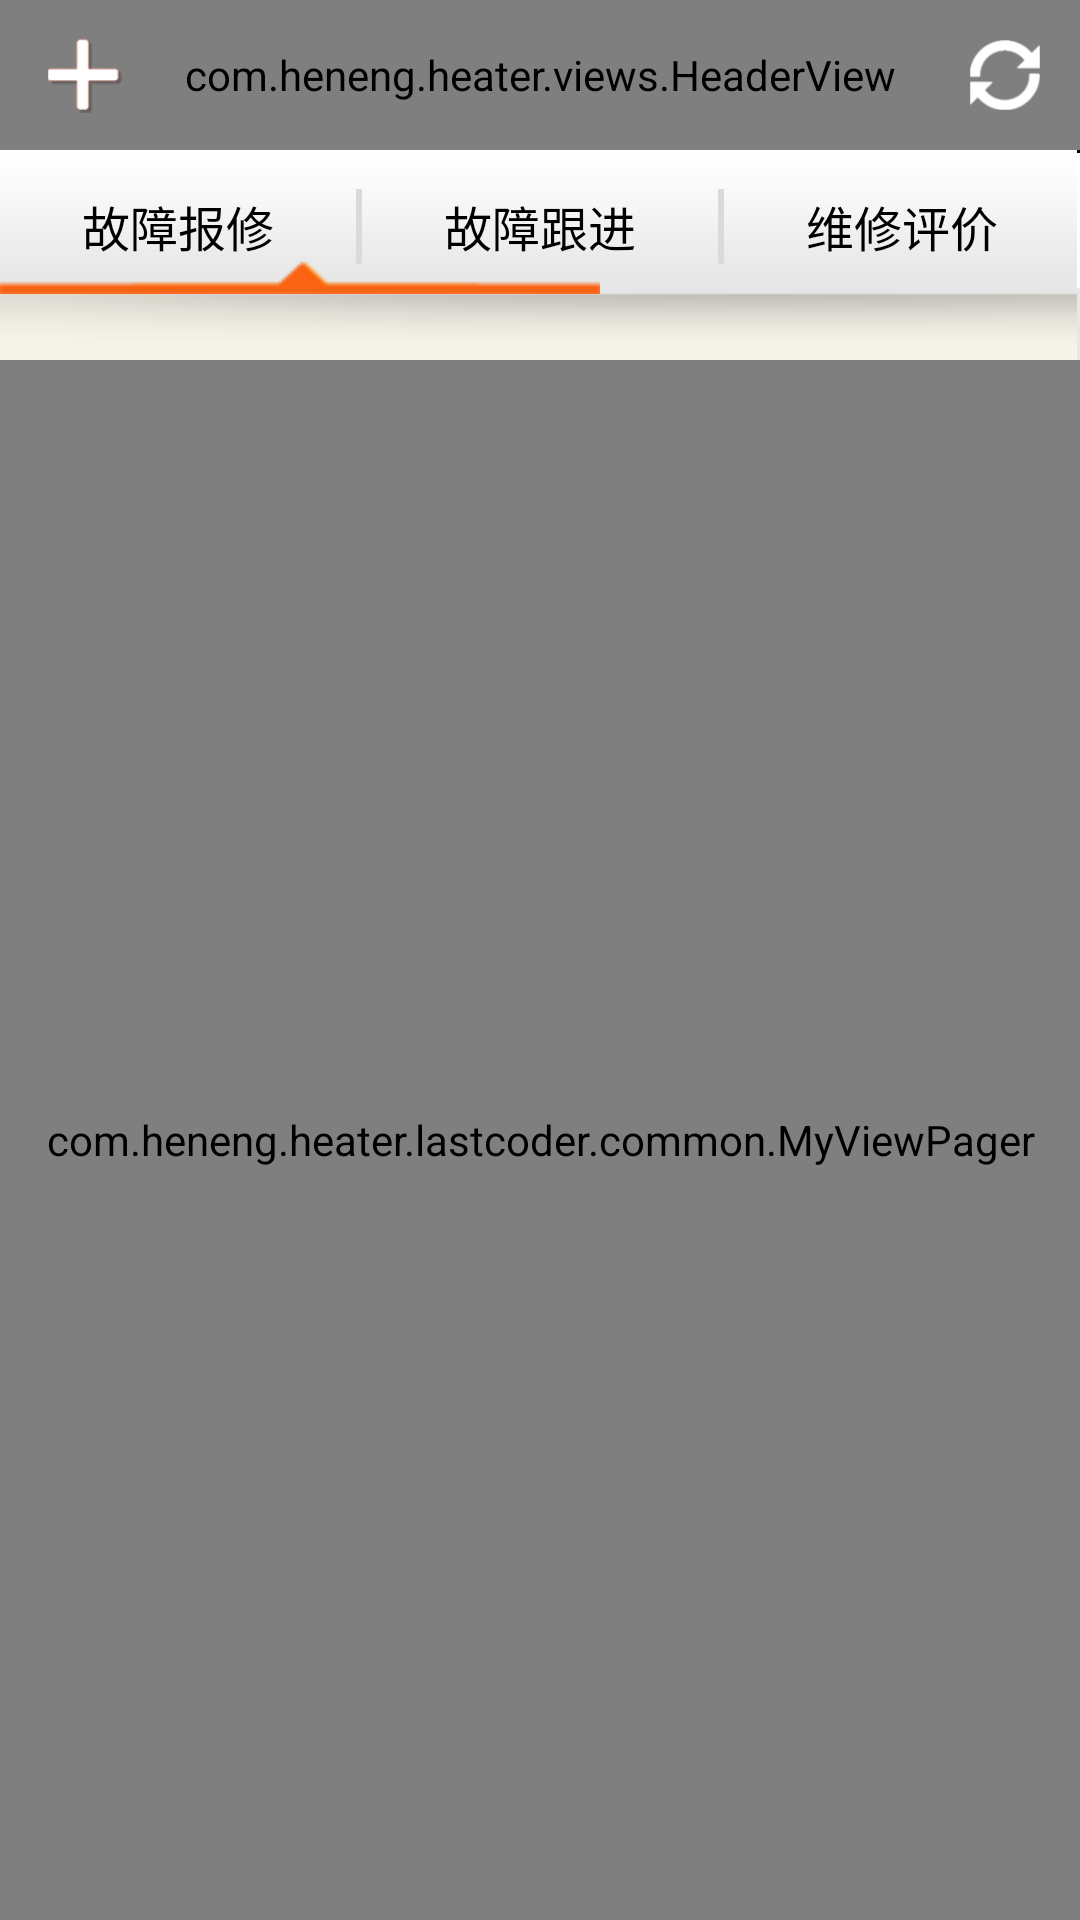

Icons on this 1080x1920 Android screen, each with its box as (x1=x1, y1=y1, x2=x2, y2=y2):
toprefresh: (x1=970, y1=40, x2=1040, y2=110)
